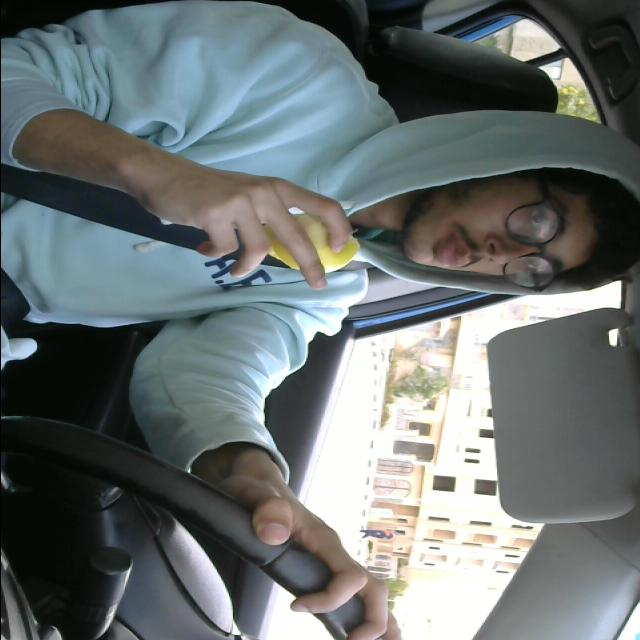eating: (273, 214, 363, 276)
